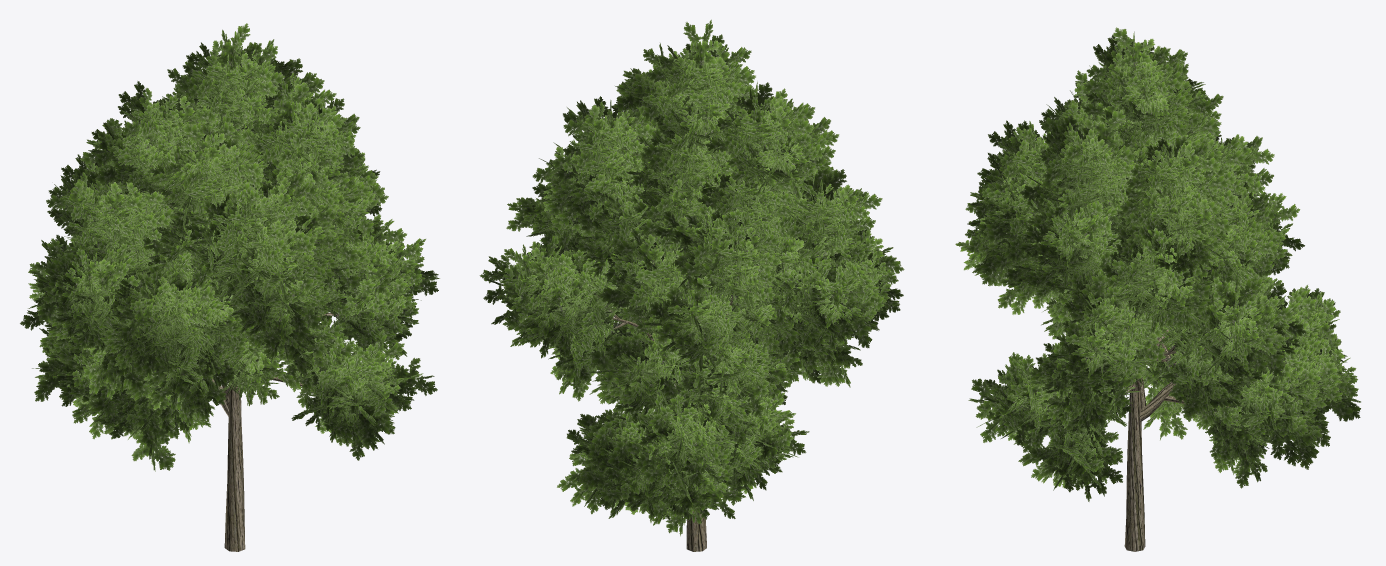
Rendered from tree (2).glb.
3 renders of one model, left to right at view 1: azimuth 30°, elevation 25°; view 2: azimuth 150°, elevation 25°; view 3: azimuth 270°, elevation 25°, orthographic.
Parts seen in each view (by area): view 1: Tree; view 2: Tree; view 3: Tree.
Boxes of the visible parts, box(x1,y1,x2,y2) form: Tree: box(20, 23, 439, 551); Tree: box(479, 19, 904, 551); Tree: box(955, 27, 1360, 551).
Bounding box in the file's own units: 59.77 × 76.22 × 57.84.
Materials: 2 (2 with a texture image).
